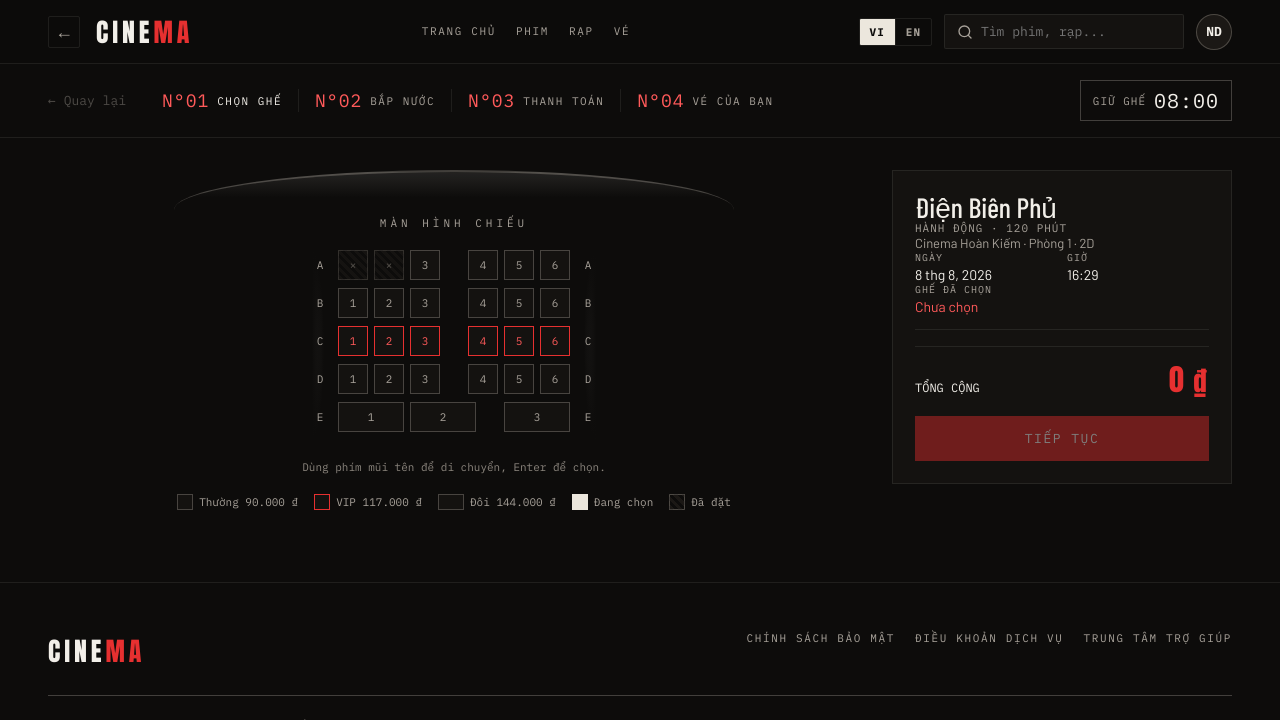
Test: BookingWizard — bước ① chọn ghế › chọn ghế thường: tổng = giá ghế + phí dịch vụ
Expected: the heading "Điện Biên Phủ" is shown, [915,190,1057,224]
Step 1. Click the 1st cell "1" → {"x": 353, "y": 303}, box [338,288,368,318]
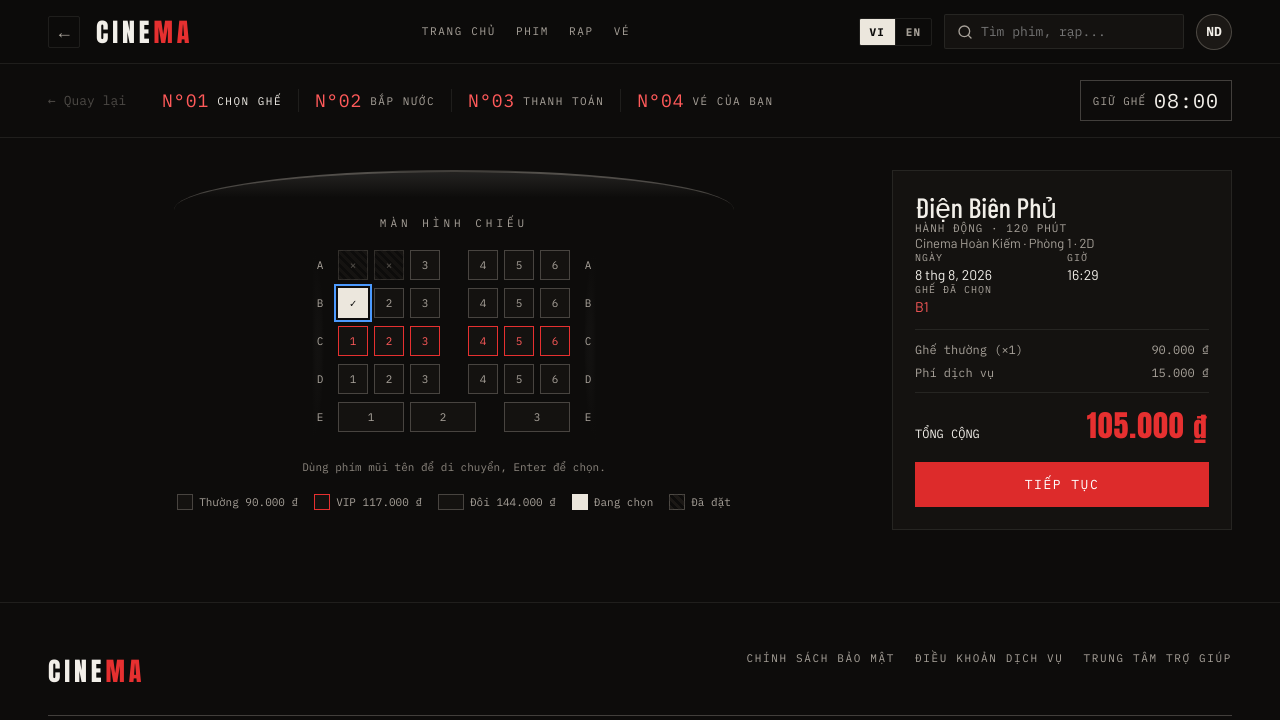
Expected: the text "Ghế thường (×1)" is shown, [915,342,1023,357]
